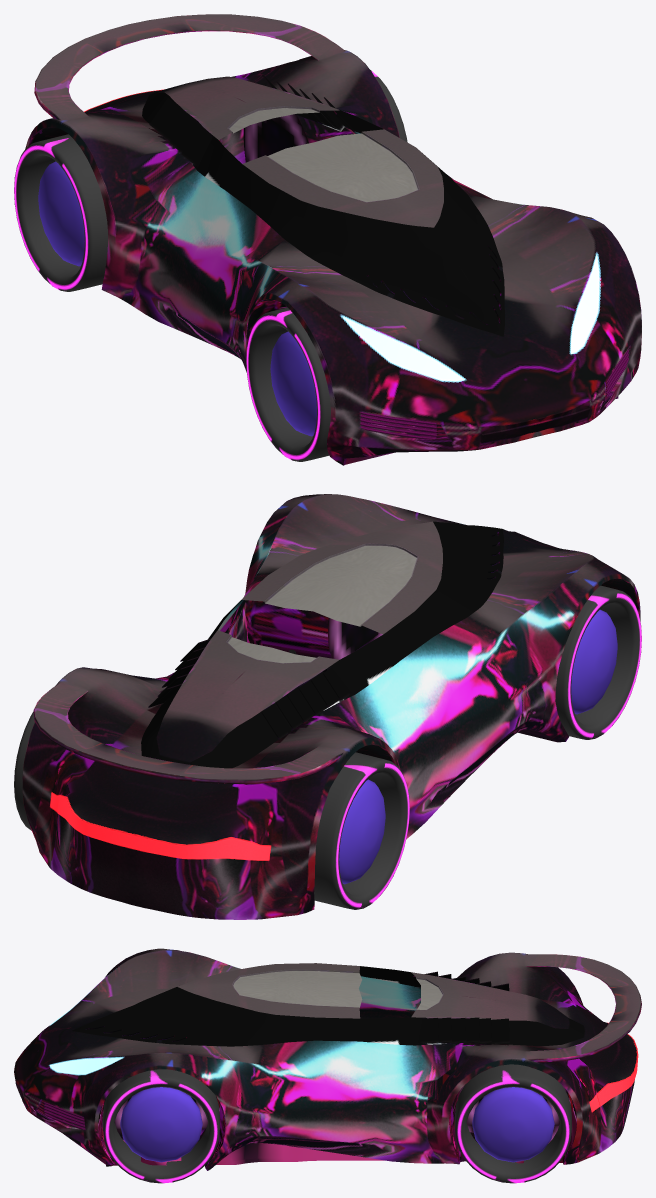
File: CyberCar_Mesh.fbx
The picture shows the model from 3 angles, top to bottom: view 1: azimuth 30°, elevation 25°; view 2: azimuth 150°, elevation 25°; view 3: azimuth 270°, elevation 25°; orthographic projection. The views are drawn at different scales.
Parts seen in each view (by area): view 1: FuturisticCar, FuturisticWheel.003, FuturisticWheel.002; view 2: FuturisticCar, FuturisticWheel.003, FuturisticWheel.002, FuturisticWheel; view 3: FuturisticCar, FuturisticWheel, FuturisticWheel.001.
Boxes of the visible parts, box(x1,y1,x2,y2) form: FuturisticCar: box(25, 14, 641, 465); FuturisticWheel.003: box(14, 134, 107, 291); FuturisticWheel.002: box(246, 307, 330, 461); FuturisticCar: box(22, 494, 640, 919); FuturisticWheel.003: box(314, 752, 409, 909); FuturisticWheel.002: box(555, 585, 641, 739); FuturisticWheel: box(14, 711, 34, 830); FuturisticCar: box(14, 948, 641, 1170); FuturisticWheel: box(454, 1064, 571, 1183); FuturisticWheel.001: box(102, 1069, 219, 1183).
Bounding box in the file's own units: 202 × 111 × 449.
